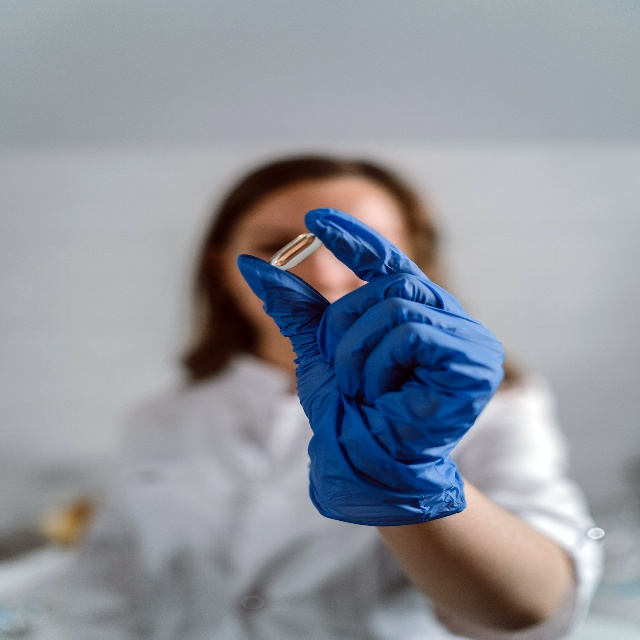Guantes: (235, 213, 508, 517)
